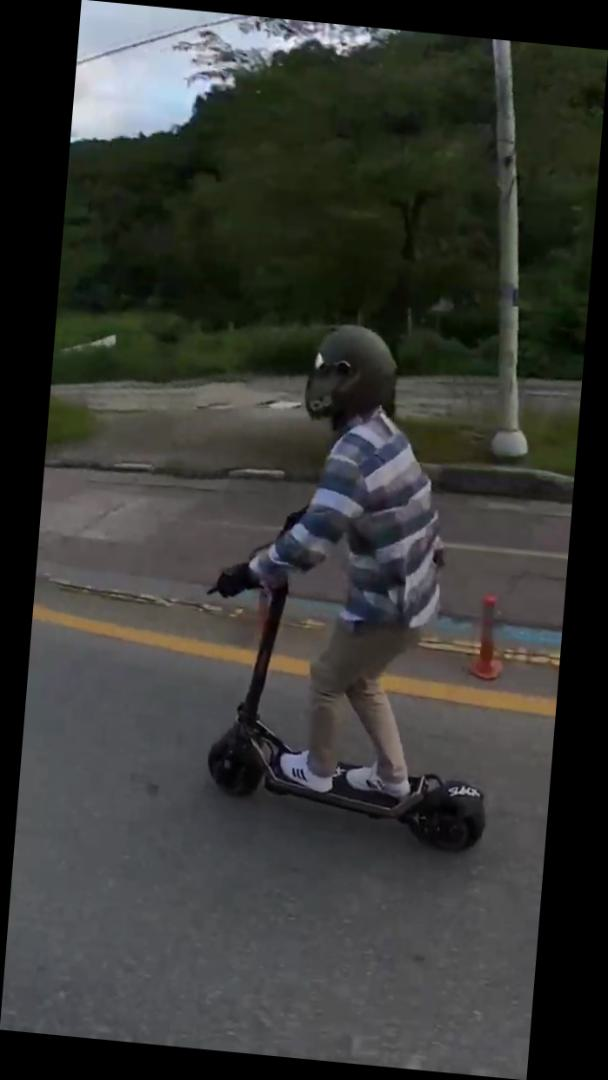helmet: (186, 309, 527, 860)
